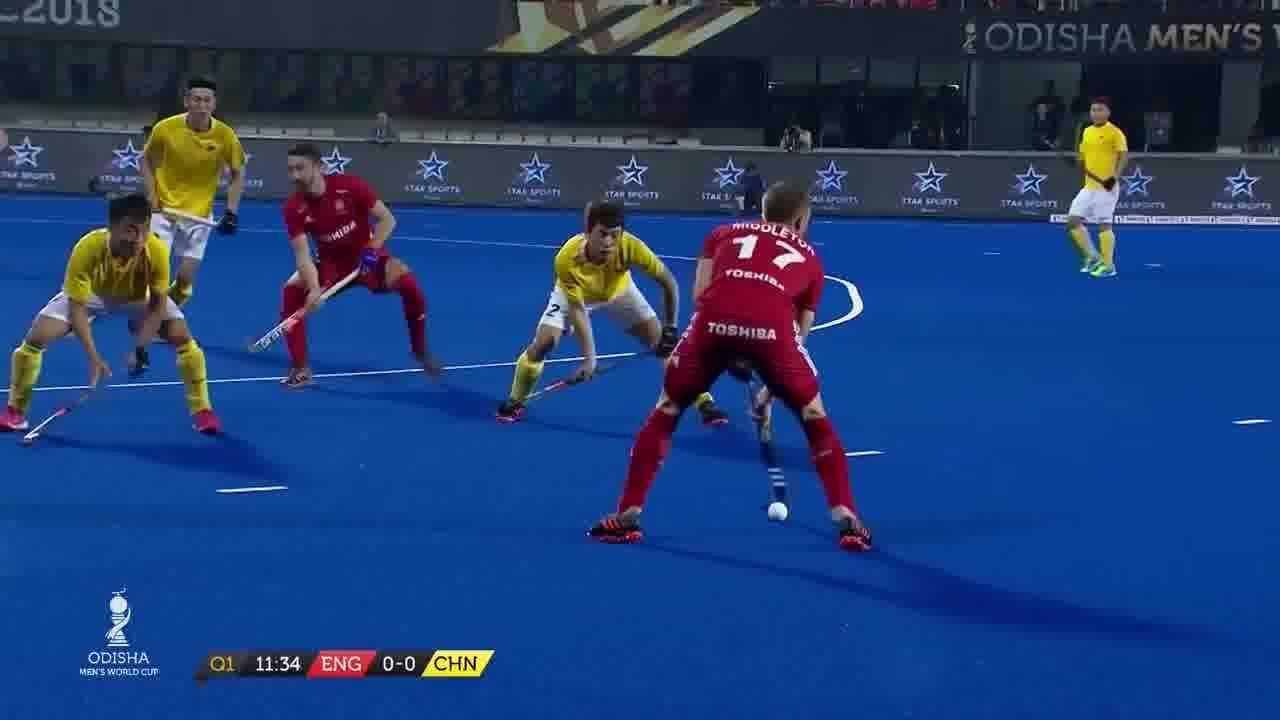ball: (756, 492, 798, 530)
